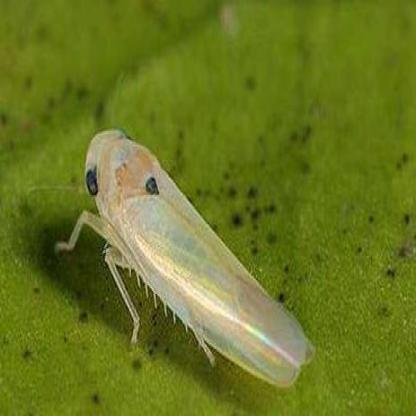Green-Leafhopper: (58, 127, 318, 388)
